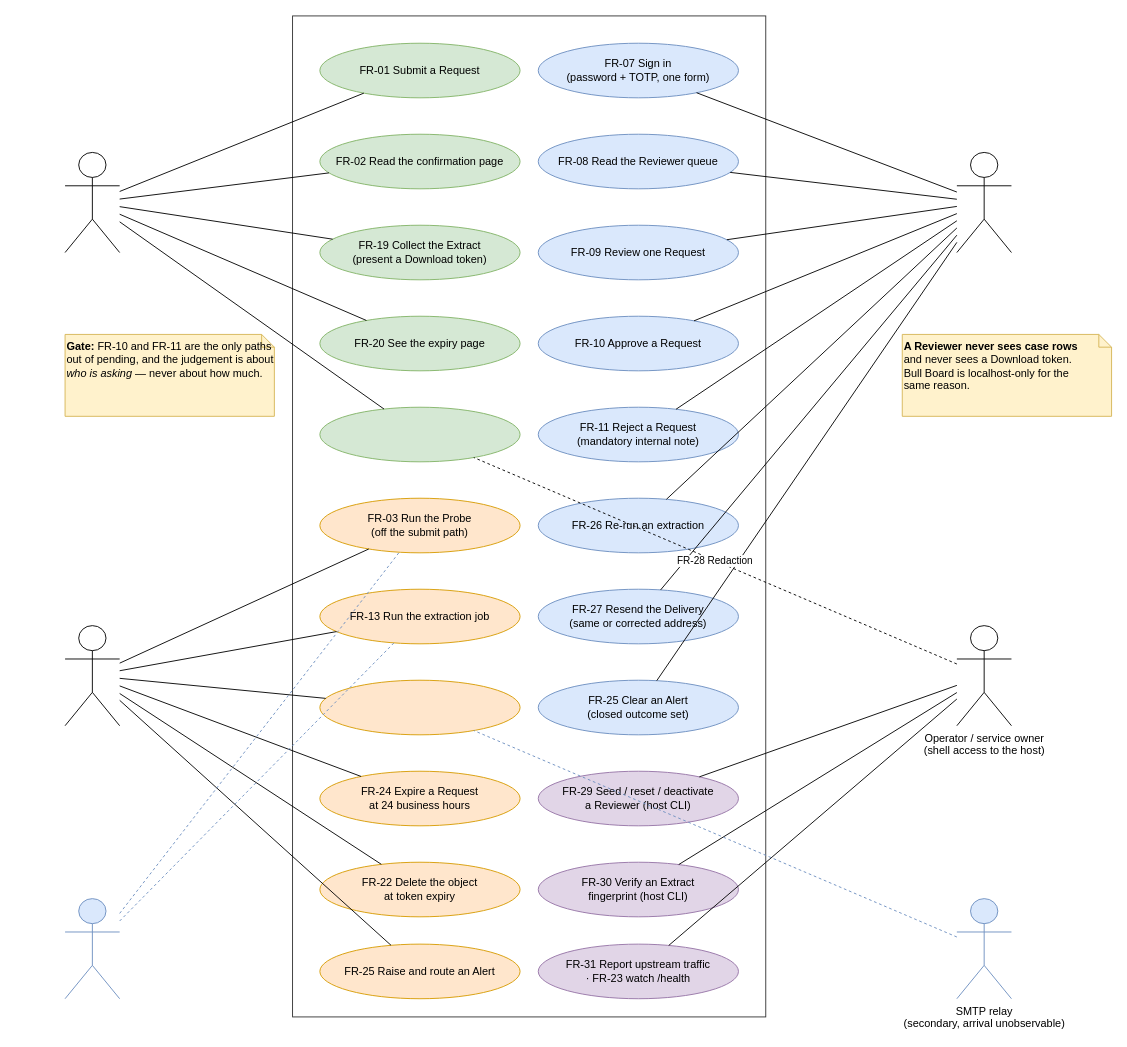
Some shapes in this 1127 by 1047 pixel diagram are drawn without their labels. The box of each missing label's shape, as (x1, y1, x2, y2) in pixels:
DDS Sharing — the service: (292, 15, 766, 1017)
FR-18 Send an email (Delivery, rejection, failure, queue): (319, 679, 520, 735)
FR-28 Ask for Redaction (by telephone): (319, 406, 520, 462)
Requester (officer at DDC / สคร. unauthenticated, never verified): (64, 152, 120, 253)
Reviewer (named, authenticated, accountable per release): (956, 152, 1011, 253)
System (tick, worker, mailer): (64, 625, 120, 726)
Upstream DDC DDS API (secondary): (64, 898, 120, 999)
